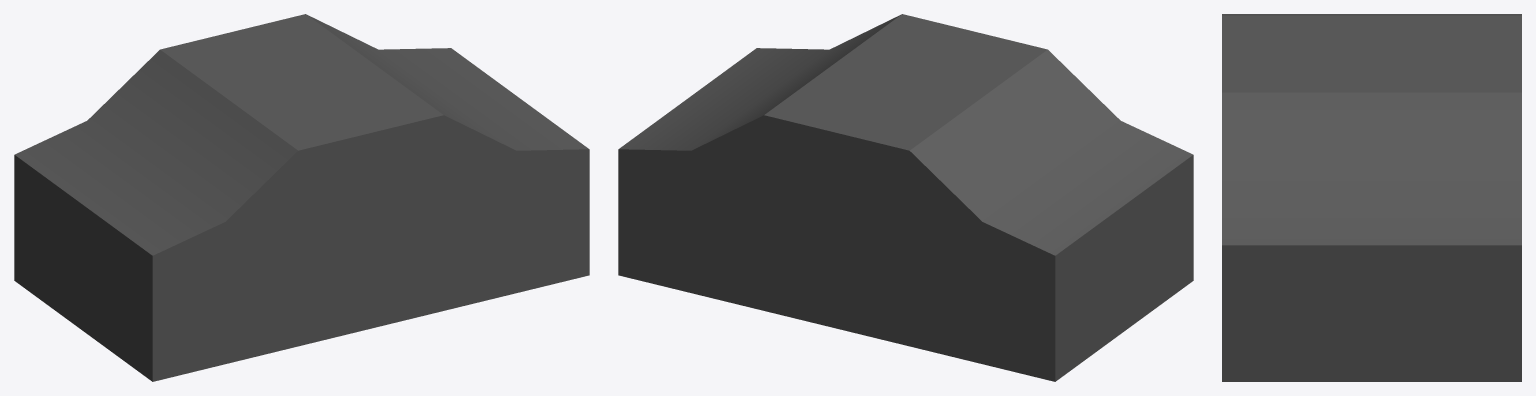
Rendered from Itr_Obj_Grandfatherclock2_Top_04.FBX.
3 views of the same model, side by side, from view 1: azimuth 30°, elevation 25°; view 2: azimuth 150°, elevation 25°; view 3: azimuth 270°, elevation 25° (orthographic). The views are drawn at different scales.
Visible parts, largest first — view 1: Itr_Obj_Grandfatherclock2_Top_04; view 2: Itr_Obj_Grandfatherclock2_Top_04; view 3: Itr_Obj_Grandfatherclock2_Top_04.
Part boxes in pixels (left/top/right/bottom): Itr_Obj_Grandfatherclock2_Top_04: left=14, top=14, right=589, bottom=381; Itr_Obj_Grandfatherclock2_Top_04: left=618, top=14, right=1193, bottom=381; Itr_Obj_Grandfatherclock2_Top_04: left=1222, top=14, right=1521, bottom=381.
Size of the model in its own units: 23.74 by 10.17 by 13.01.
